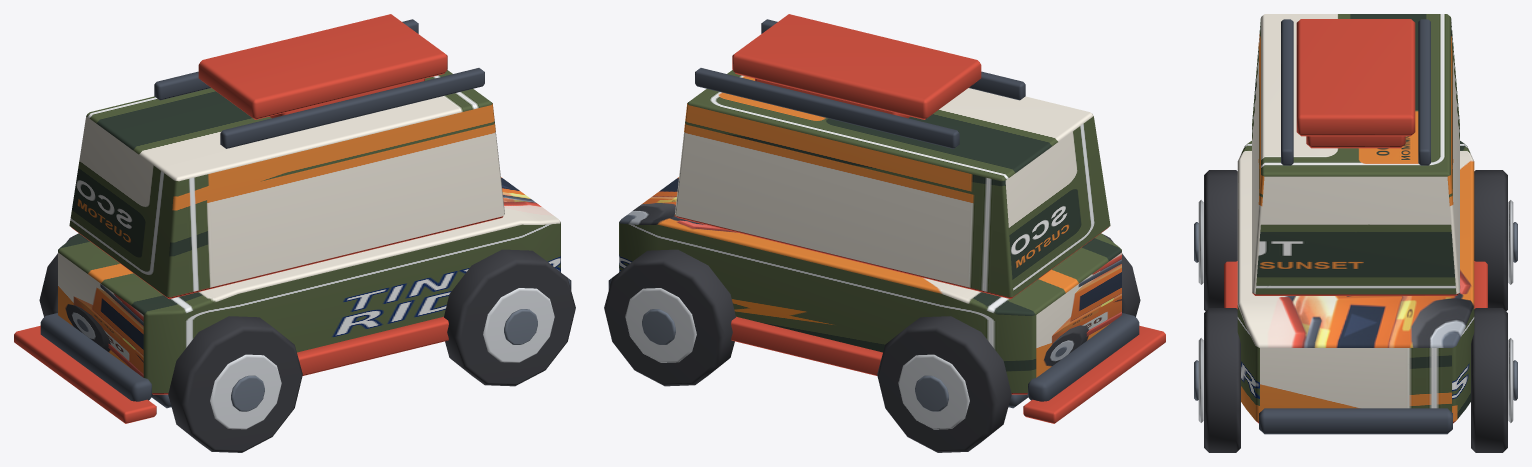
The picture shows the model from 3 angles, left to right: view 1: azimuth 30°, elevation 25°; view 2: azimuth 150°, elevation 25°; view 3: azimuth 270°, elevation 25°; orthographic projection. The views are drawn at different scales.
Parts seen in each view (by area): view 1: DP-05_cabin, DP-05_connected_shell, utility load, Tire, Tire.002, utility rail, custom side guard, custom chin, front bumper, Rim, Rim.002, utility rail.001 (+3 smaller); view 2: DP-05_cabin, DP-05_connected_shell, utility load, Tire.001, Tire.003, utility rail.001, custom side guard.001, custom chin, front bumper, Rim.001, Rim.003, utility rail (+3 smaller); view 3: DP-05_cabin, DP-05_connected_shell, utility load, Tire.002, Tire.003, rear bumper, Tire, Tire.001, utility rail, utility rail.001, custom equipment, custom side guard (+5 smaller).
Part boxes in pixels (x1,y1,x2,y2): DP-05_cabin: [69, 70, 504, 298]; DP-05_connected_shell: [58, 177, 560, 394]; utility load: [198, 14, 447, 119]; Tire: [168, 316, 302, 452]; Tire.002: [444, 249, 575, 386]; utility rail: [220, 68, 484, 148]; custom side guard: [297, 316, 448, 375]; custom chin: [14, 325, 156, 423]; front bumper: [40, 313, 152, 401]; Rim: [210, 354, 281, 429]; Rim.002: [483, 288, 554, 362]; utility rail.001: [154, 19, 418, 100]; DP-05_cabin: [675, 70, 1110, 298]; DP-05_connected_shell: [619, 177, 1121, 394]; utility load: [732, 14, 981, 119]; Tire.001: [877, 316, 1011, 452]; Tire.003: [604, 249, 735, 386]; utility rail.001: [695, 68, 959, 148]; custom side guard.001: [731, 316, 882, 375]; custom chin: [1023, 325, 1165, 423]; front bumper: [1027, 313, 1139, 401]; Rim.001: [898, 354, 969, 429]; Rim.003: [625, 288, 696, 362]; utility rail: [761, 19, 1025, 100]; DP-05_cabin: [1252, 14, 1459, 295]; DP-05_connected_shell: [1237, 141, 1474, 423]; utility load: [1296, 19, 1415, 136]; Tire.002: [1204, 308, 1240, 452]; Tire.003: [1471, 308, 1507, 452]; rear bumper: [1259, 408, 1452, 434]; Tire: [1204, 170, 1237, 311]; Tire.001: [1474, 170, 1507, 311]; utility rail: [1281, 19, 1293, 165]; utility rail.001: [1418, 19, 1430, 165]; custom equipment: [1306, 136, 1405, 148]; custom side guard: [1224, 261, 1237, 308].
Size of the model in its own units: 384 by 247 by 227.
